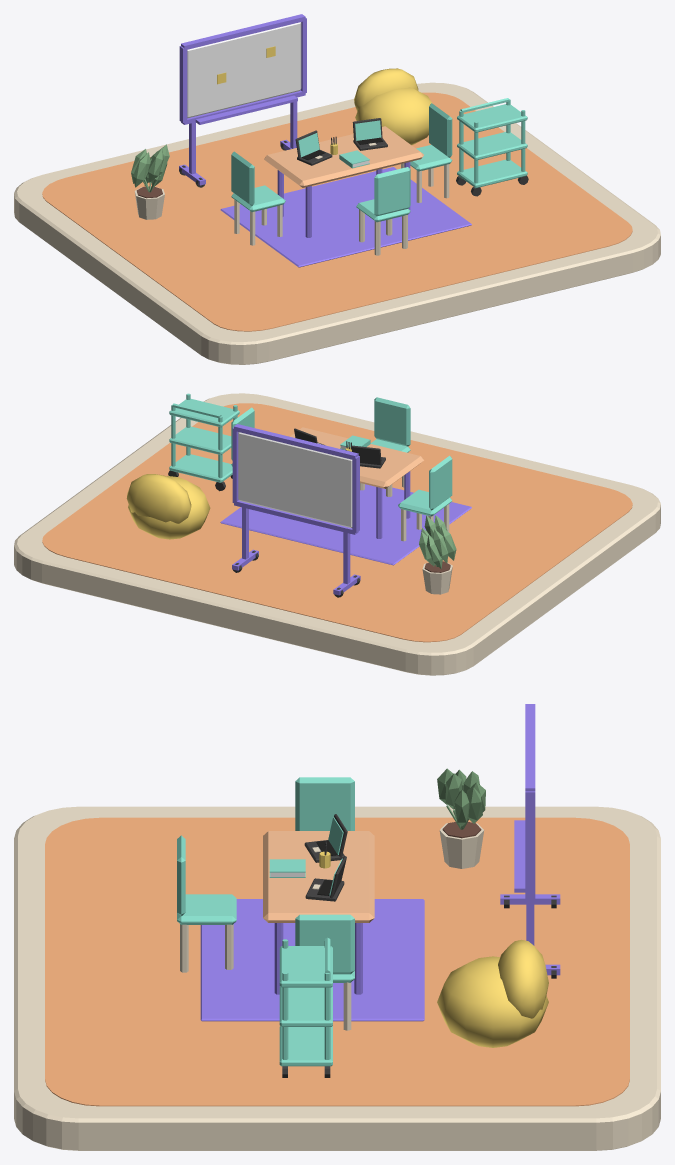
The model's file is room.fbx.
3 views of the same model, one above another, from view 1: azimuth 30°, elevation 25°; view 2: azimuth 150°, elevation 25°; view 3: azimuth 270°, elevation 25° (orthographic). The views are drawn at different scales.
Visible parts, largest first — view 1: COM-02 Floor Surface, COM-01 Rounded Base Direct, Rug, Writing surface, Rounded table top, Beanbag shell, Pot, Backrest.002, Back bolster, Tray.002, Tray.001, Tray (+8 smaller); view 2: COM-02 Floor Surface, COM-01 Rounded Base Direct, Writing surface, Rug, Back bolster, Pot, Rounded table top, Beanbag shell, Backrest.002, Tray, Tray.001, Tray.002 (+7 smaller); view 3: COM-02 Floor Surface, COM-01 Rounded Base Direct, Rug, Rounded table top, Beanbag shell, Pot, Backrest, Back bolster, Backrest.001, Tray.002, Tray, Tray.001 (+5 smaller).
Part boxes in pixels (x1=…): COM-02 Floor Surface: x1=42, y1=92, x2=632, y2=331; COM-01 Rounded Base Direct: x1=14, y1=82, x2=660, y2=364; Rug: x1=220, y1=167, x2=471, y2=267; Writing surface: x1=187, y1=22, x2=301, y2=118; Rounded table top: x1=264, y1=126, x2=423, y2=187; Beanbag shell: x1=355, y1=87, x2=431, y2=145; Pot: x1=131, y1=144, x2=169, y2=219; Backrest.002: x1=374, y1=167, x2=410, y2=216; Back bolster: x1=354, y1=68, x2=418, y2=111; Tray.002: x1=457, y1=104, x2=527, y2=132; Tray.001: x1=457, y1=132, x2=527, y2=160; Tray: x1=457, y1=159, x2=527, y2=188; COM-02 Floor Surface: x1=42, y1=403, x2=632, y2=642; COM-01 Rounded Base Direct: x1=14, y1=393, x2=660, y2=675; Writing surface: x1=238, y1=432, x2=352, y2=527; Rug: x1=220, y1=484, x2=471, y2=565; Back bolster: x1=126, y1=474, x2=191, y2=523; Pot: x1=419, y1=515, x2=456, y2=594; Rounded table top: x1=290, y1=427, x2=423, y2=488; Beanbag shell: x1=128, y1=476, x2=210, y2=539; Backrest.002: x1=374, y1=397, x2=410, y2=446; Tray: x1=169, y1=454, x2=232, y2=482; Tray.001: x1=169, y1=426, x2=231, y2=454; Tray.002: x1=169, y1=399, x2=239, y2=427; COM-02 Floor Surface: x1=45, y1=817, x2=629, y2=1106; COM-01 Rounded Base Direct: x1=14, y1=806, x2=660, y2=1150; Rug: x1=200, y1=899, x2=424, y2=1021; Rounded table top: x1=263, y1=831, x2=374, y2=922; Beanbag shell: x1=437, y1=956, x2=548, y2=1047; Pot: x1=437, y1=768, x2=485, y2=868; Backrest: x1=295, y1=777, x2=354, y2=830; Back bolster: x1=498, y1=939, x2=548, y2=1018; Backrest.001: x1=295, y1=914, x2=354, y2=974; Tray.002: x1=279, y1=946, x2=332, y2=987; Tray: x1=279, y1=1026, x2=332, y2=1066; Tray.001: x1=279, y1=986, x2=332, y2=1026.
Size of the model in its own units: 600 by 204 by 520.
